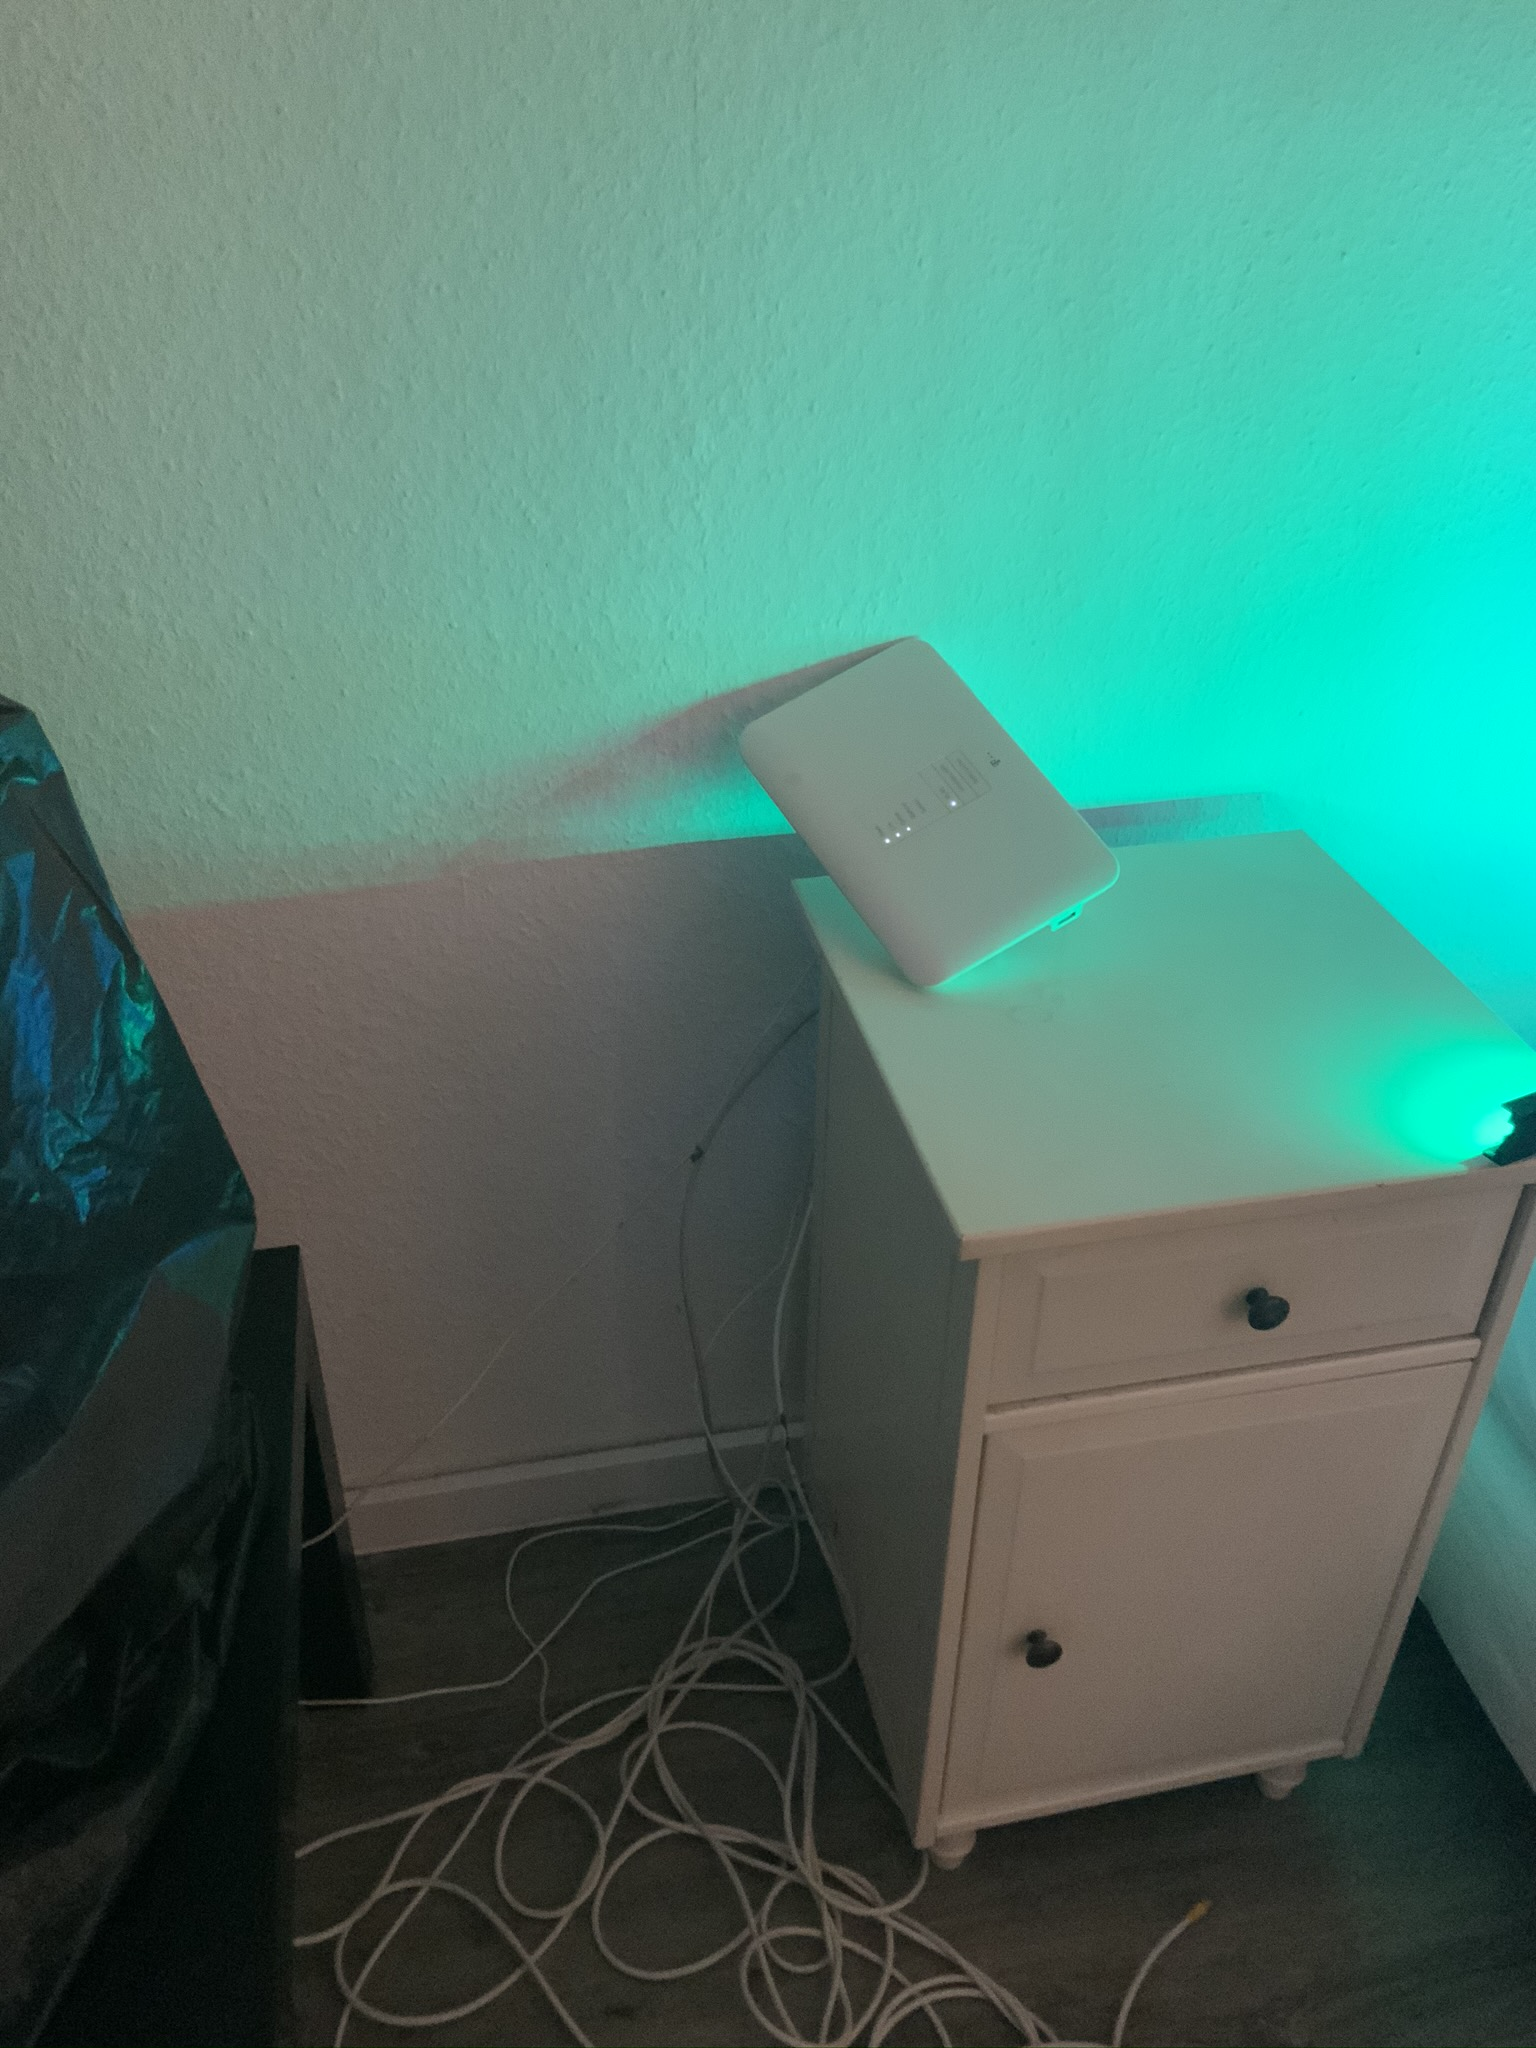router: (733, 624, 1121, 1006)
